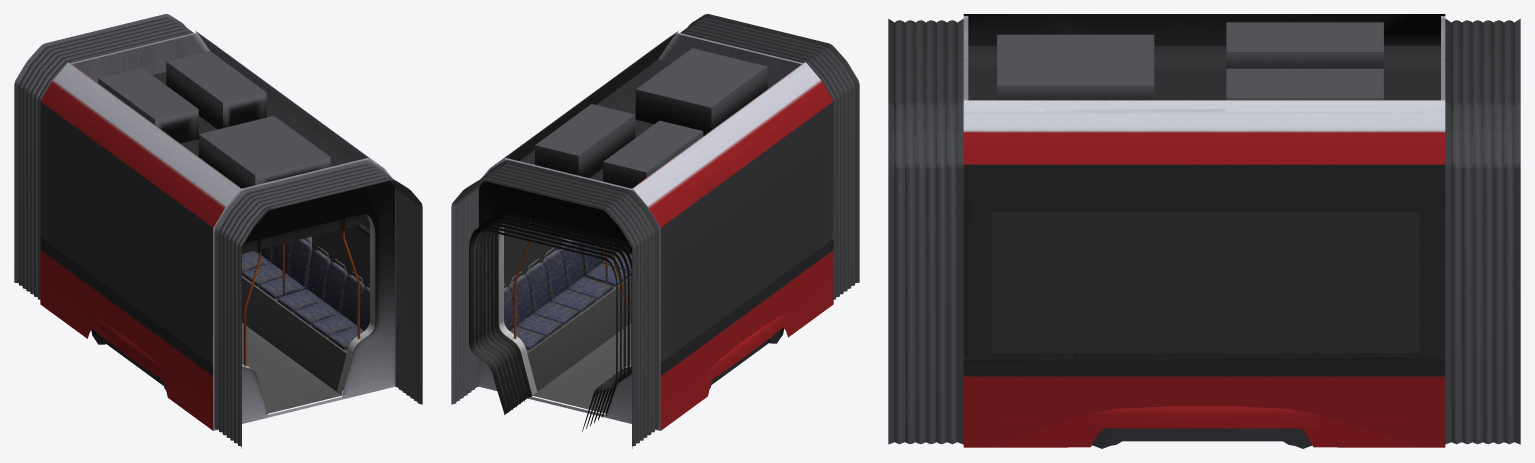
Rendered from nevsky_b.obj.
3 renders of one model, left to right at view 1: azimuth 30°, elevation 25°; view 2: azimuth 150°, elevation 25°; view 3: azimuth 270°, elevation 25°, orthographic. The views are drawn at different scales.
Parts seen in each view (by area): view 1: body, garm, salon, steklo, bog; view 2: body, salon, garm, steklo, bog; view 3: body, garm, steklo, bog.
Part boxes in pixels (box(x1,y1,x2,y2)): body: box(40, 31, 395, 430); garm: box(14, 14, 422, 448); salon: box(130, 214, 375, 413); steklo: box(49, 142, 369, 355); bog: box(91, 329, 165, 389); body: box(478, 31, 833, 430); salon: box(469, 210, 631, 431); garm: box(451, 14, 859, 448); steklo: box(504, 142, 823, 355); bog: box(709, 327, 784, 388); body: box(963, 14, 1445, 447); garm: box(888, 19, 1520, 444); steklo: box(991, 212, 1419, 352); bog: box(1091, 428, 1312, 448).
Size of the model in its own units: 2.57 by 3.28 by 5.36.
11 materials, 11 textured.
